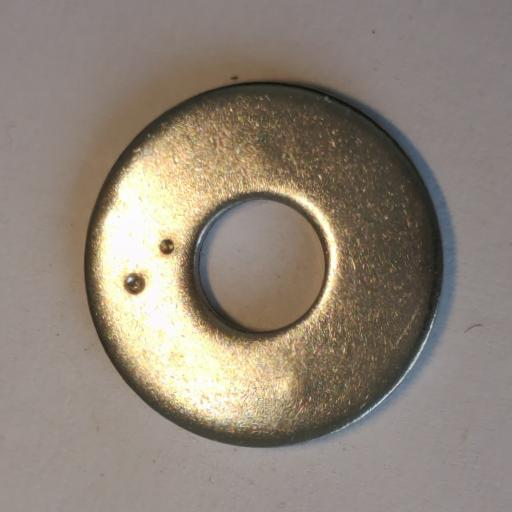circular_cavity: (123, 273, 145, 294), (159, 238, 175, 254)
